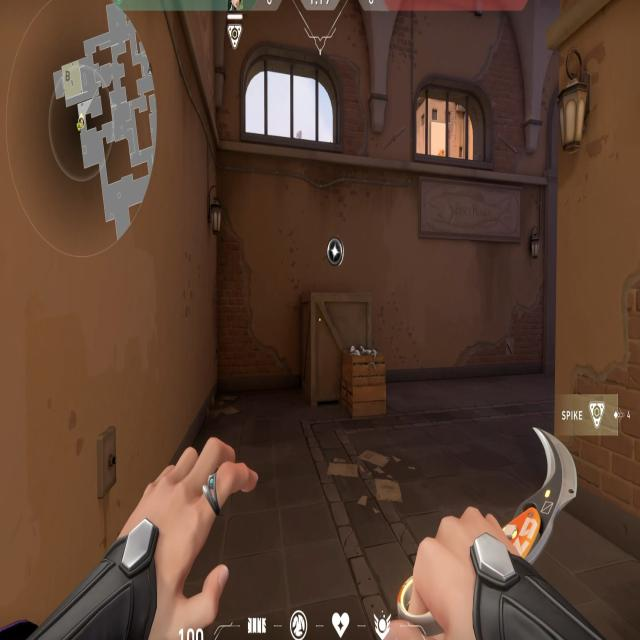B_Main_Wallbang: (302, 224, 394, 429)
Throwables: (240, 26, 349, 167), (418, 76, 497, 180)
